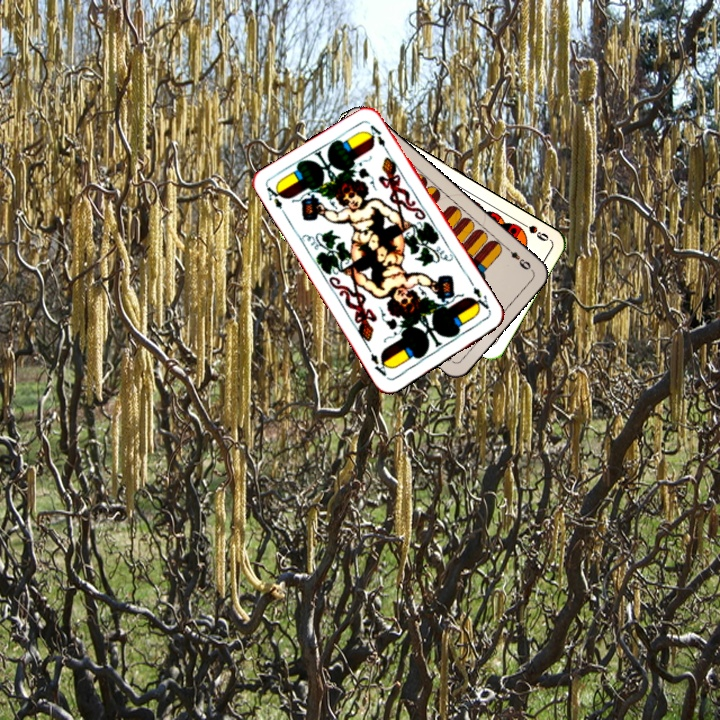E9: (501, 242, 533, 272)
EA: (262, 181, 289, 219), (467, 283, 493, 315)
S9: (515, 217, 551, 244)
